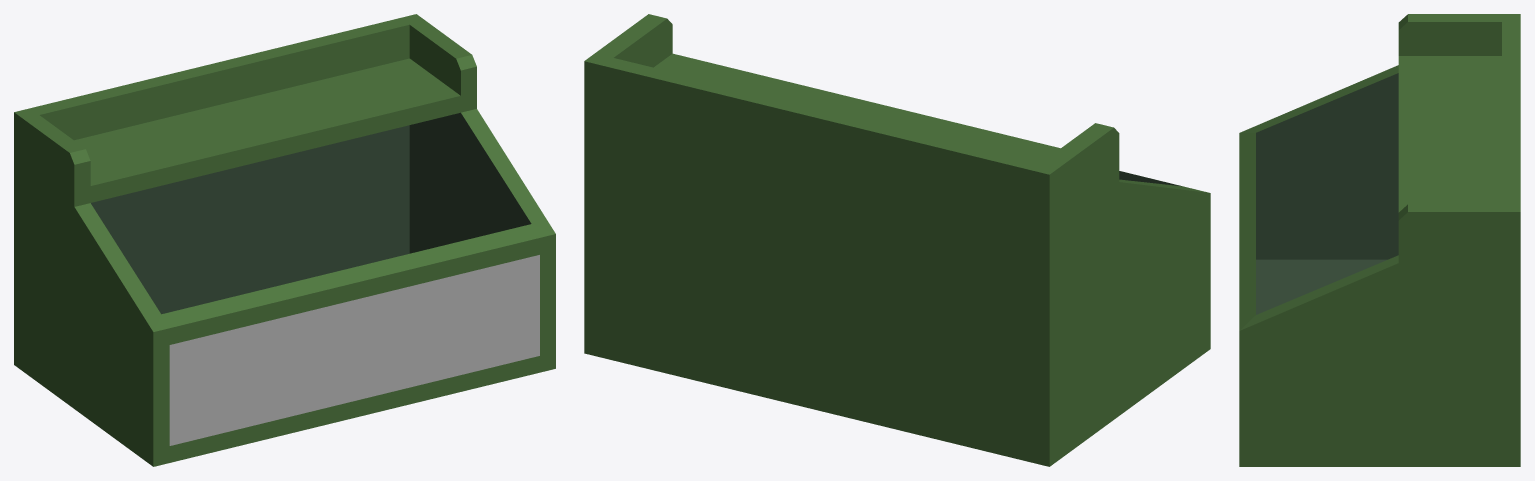
The model's file is Dumpster.fbx.
3 renders of one model, left to right at view 1: azimuth 30°, elevation 25°; view 2: azimuth 150°, elevation 25°; view 3: azimuth 270°, elevation 25°, orthographic. The views are drawn at different scales.
Visible parts, largest first — view 1: Dumpster; view 2: Dumpster; view 3: Dumpster.
Part boxes in pixels (bbox=[...]): Dumpster: bbox=[14, 14, 555, 466]; Dumpster: bbox=[584, 14, 1210, 466]; Dumpster: bbox=[1239, 14, 1520, 466].
Size of the model in its own units: 2.5 by 1.5 by 1.5.
Materials: 1 (1 with a texture image).
